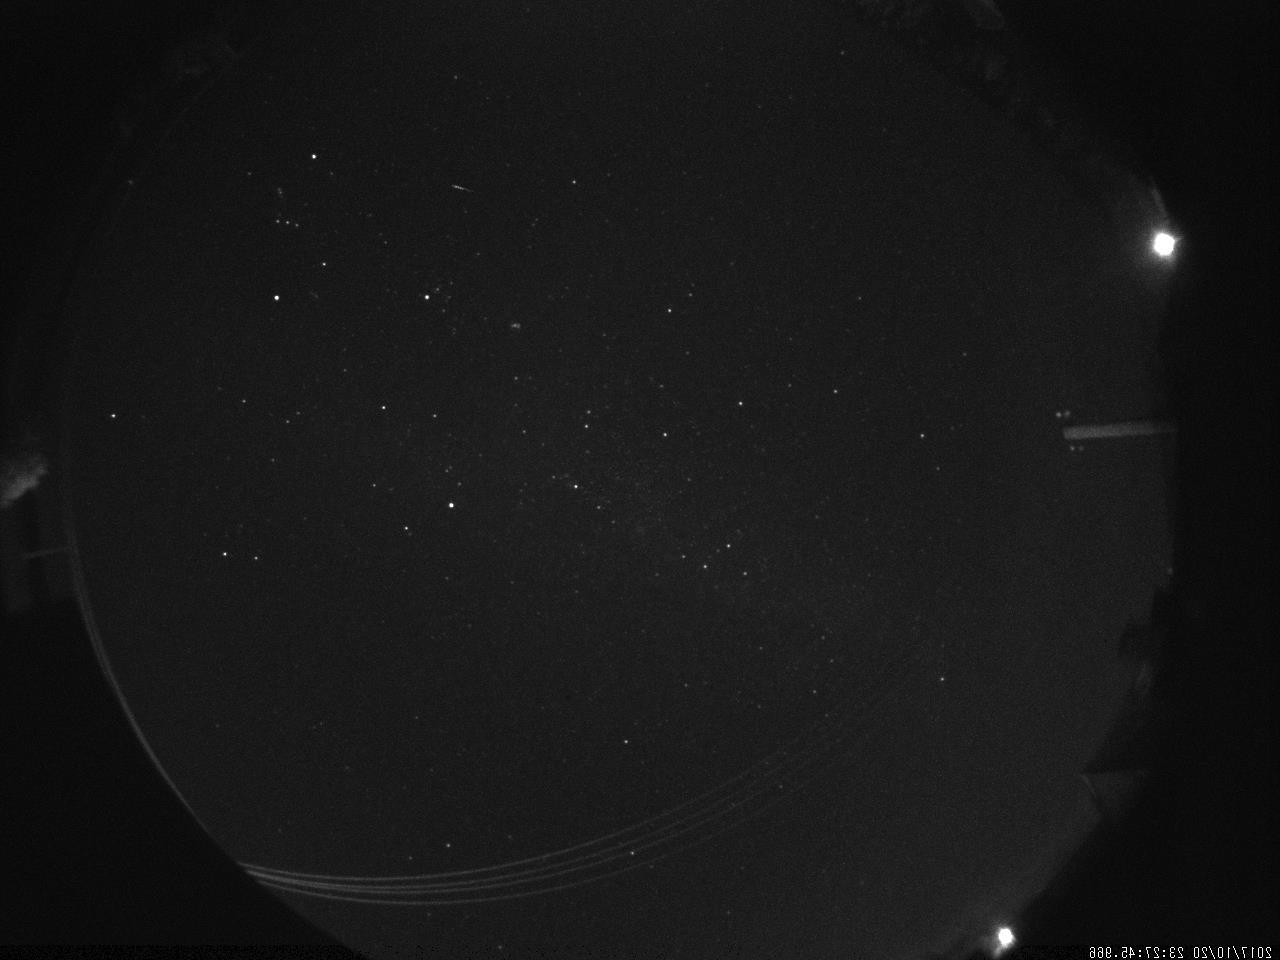meteor: (442, 181, 482, 200)
